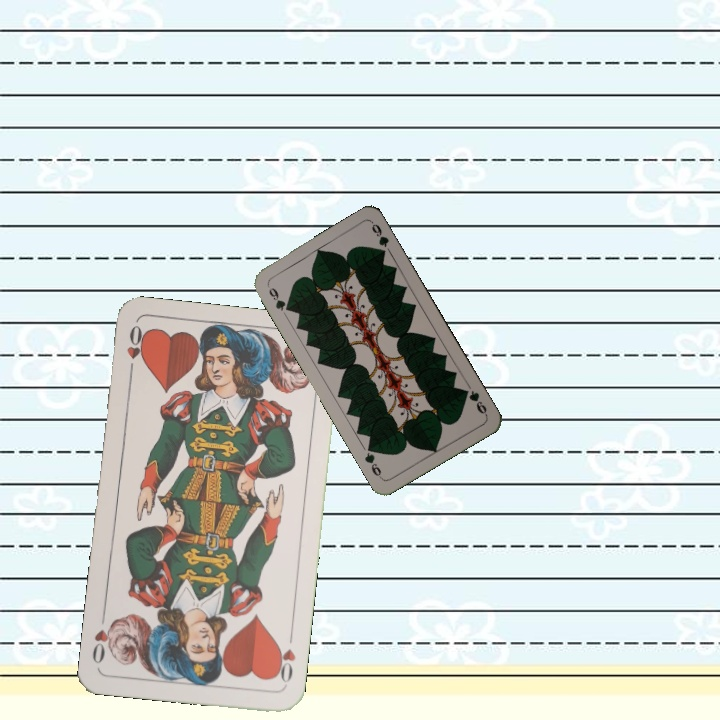G9: (458, 385, 490, 418), (263, 281, 293, 314)
HO: (271, 629, 298, 688), (122, 321, 147, 380)
